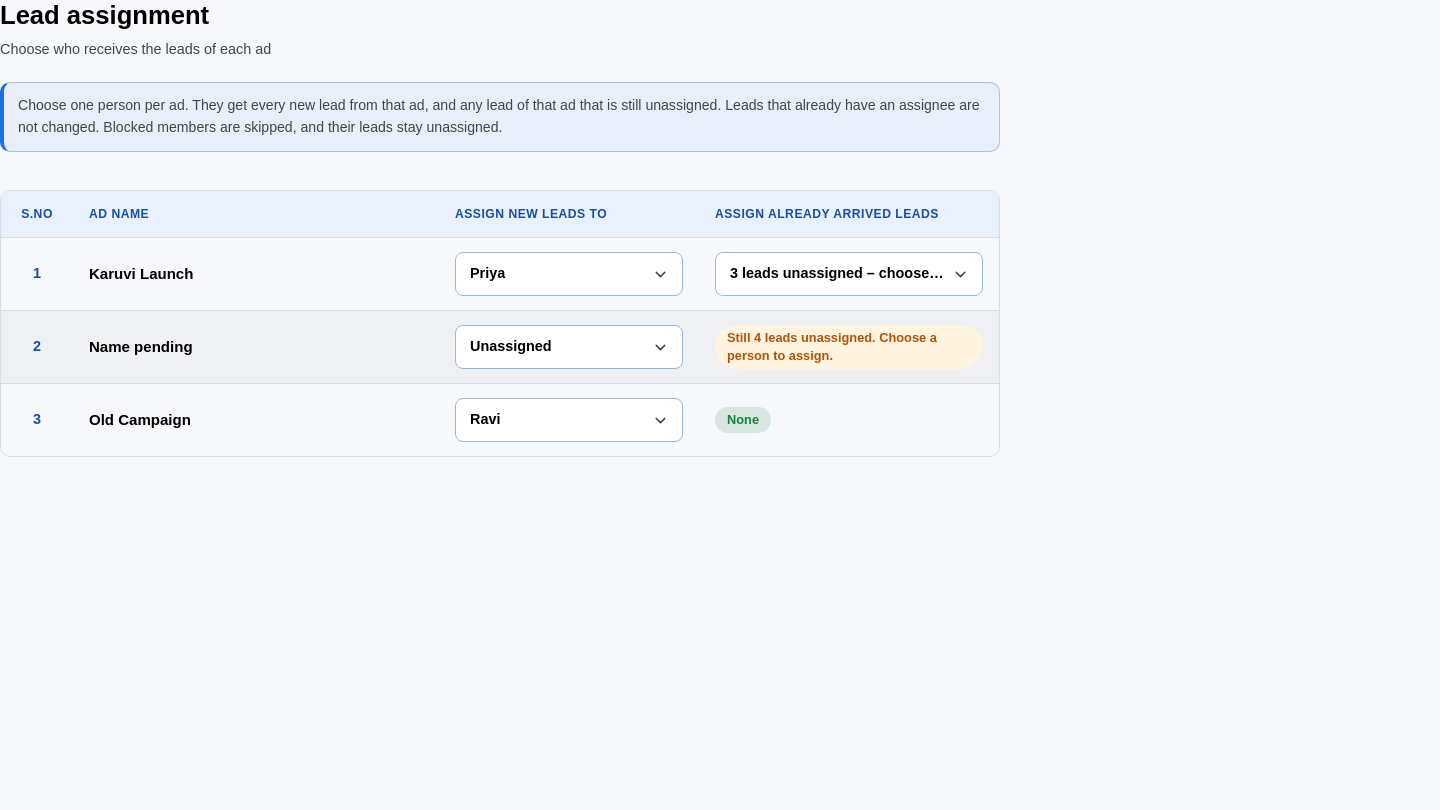
Test case: AdAssignmentSection › saves the rule, then assigns the unassigned leads, when the owner chooses new and unassigned
Expected: the text "Karuvi Launch" is shown, [89, 265, 193, 282]
Select "Ravi" in the dropdown named "new leads of" at (569, 347), box [455, 325, 683, 369]
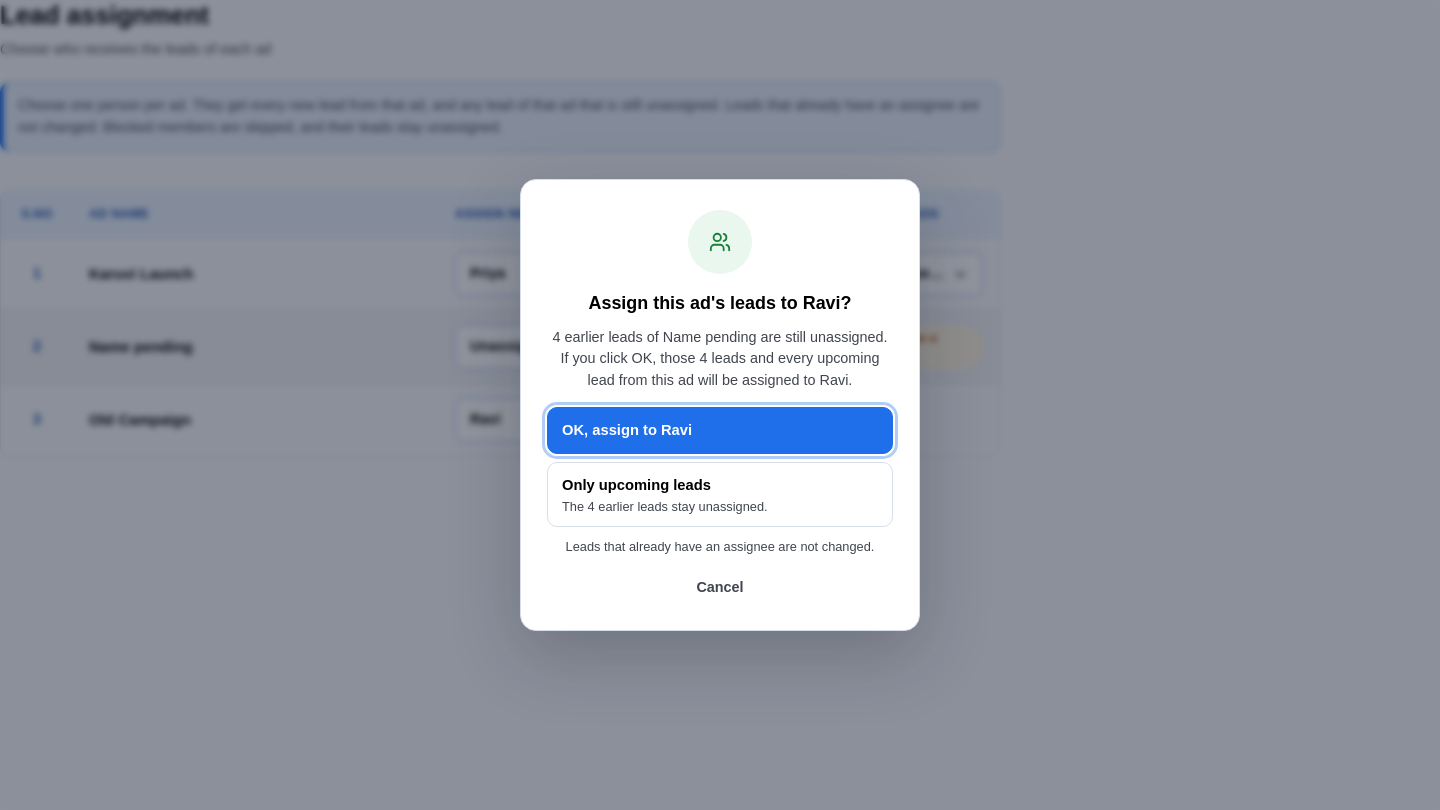
Result: the dialog is shown at [520, 179, 920, 631]
Click the button "OK, assign to Ravi" at (627, 430), box [547, 407, 893, 454]
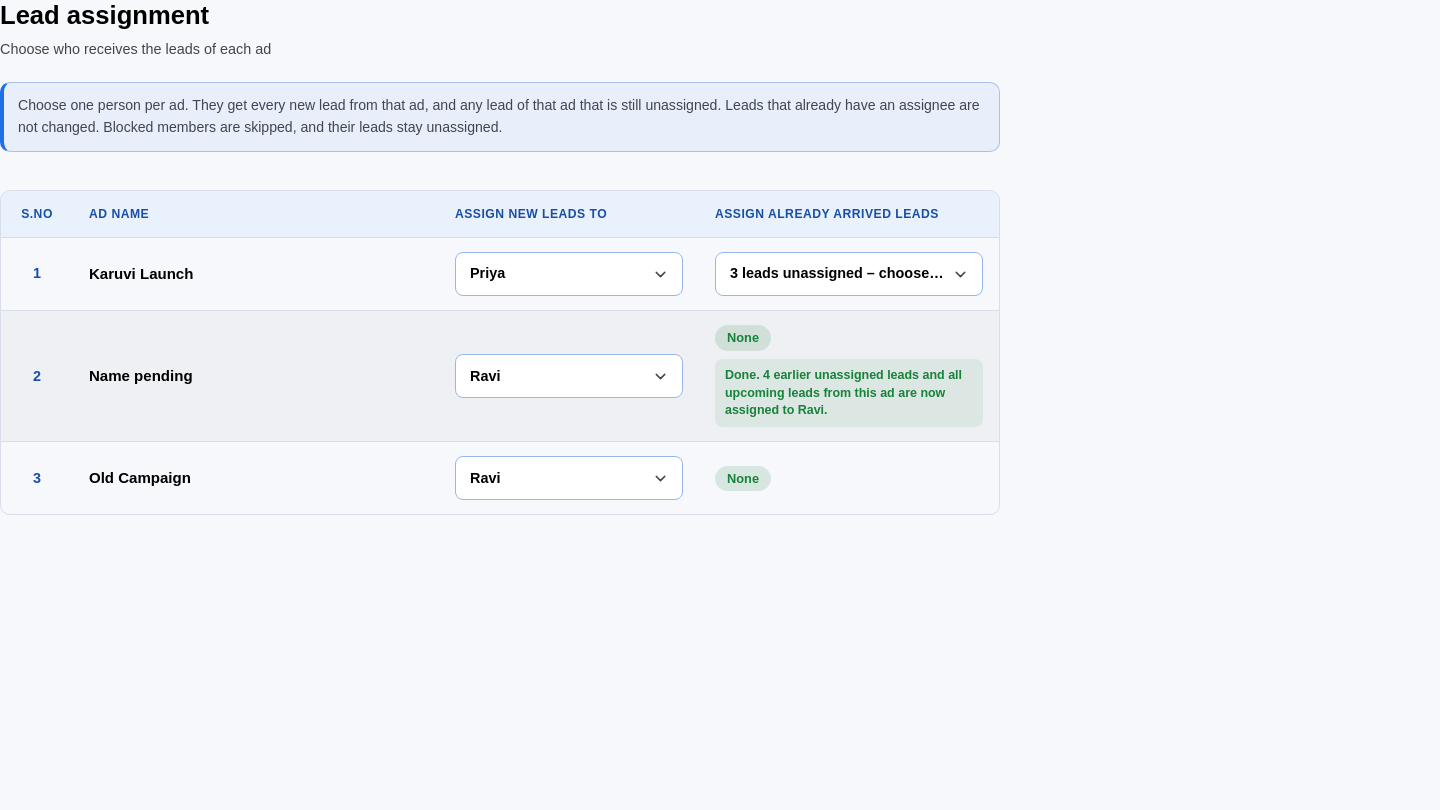
Result: the text "Done. 4 earlier unassigned leads and all upcoming leads from this ad are now assigned to Ravi." is shown at [725, 368, 962, 417]
Result: the 1st text "None" is shown at [715, 325, 771, 351]
Result: the dialog is gone
